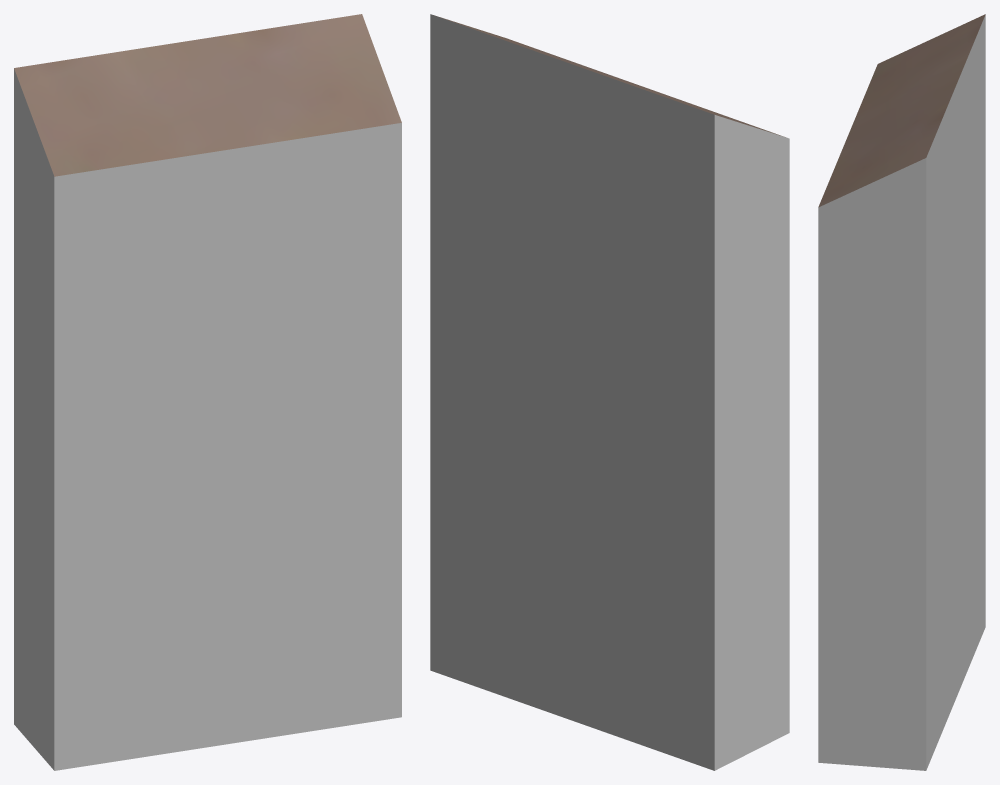
File: DEBW_0010007THZR.gltf
The picture shows the model from 3 angles, left to right: view 1: azimuth 30°, elevation 25°; view 2: azimuth 150°, elevation 25°; view 3: azimuth 270°, elevation 25°; orthographic projection. The views are drawn at different scales.
Visible parts, largest first — view 1: Z_UP; view 2: Z_UP; view 3: Z_UP.
Boxes of the visible parts, x1,y1,x2,y2 form: Z_UP: (14, 14, 401, 770); Z_UP: (430, 14, 789, 770); Z_UP: (818, 14, 985, 770).
Bounding box in the file's own units: 5.56 × 10.45 × 2.59.
Materials: 2 (1 with a texture image).
